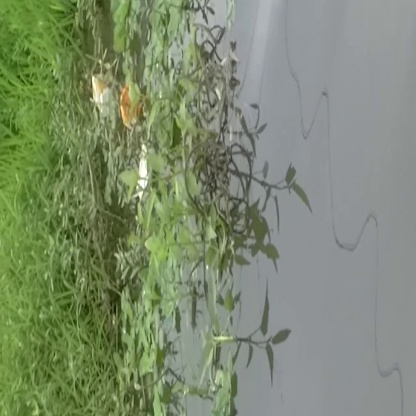grass: (152, 24, 244, 256)
